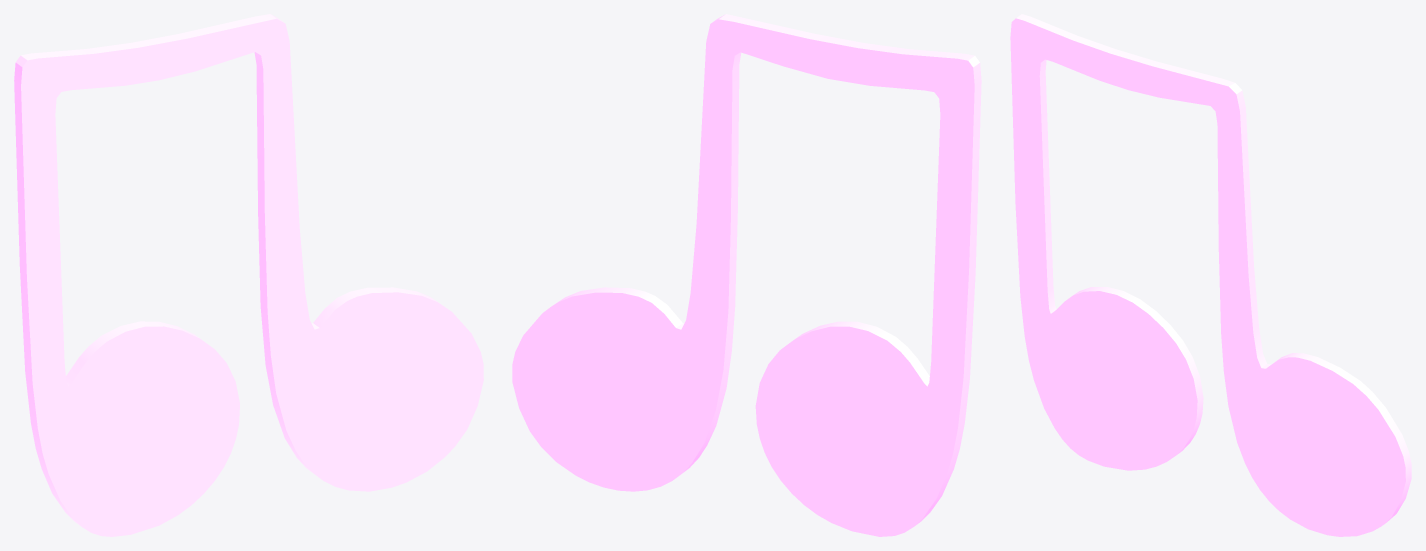
The model's file is MusicNode.fbx.
The picture shows the model from 3 angles, left to right: view 1: azimuth 30°, elevation 25°; view 2: azimuth 150°, elevation 25°; view 3: azimuth 330°, elevation 25°; orthographic projection. The views are drawn at different scales.
Visible parts, largest first — view 1: Cube.023; view 2: Cube.023; view 3: Cube.023.
Boxes of the visible parts, box(x1,y1,x2,y2) form: Cube.023: box(14, 14, 483, 536); Cube.023: box(512, 14, 981, 536); Cube.023: box(1010, 14, 1411, 536).
Size of the model in its own units: 74.7 by 79.61 by 1.92.
